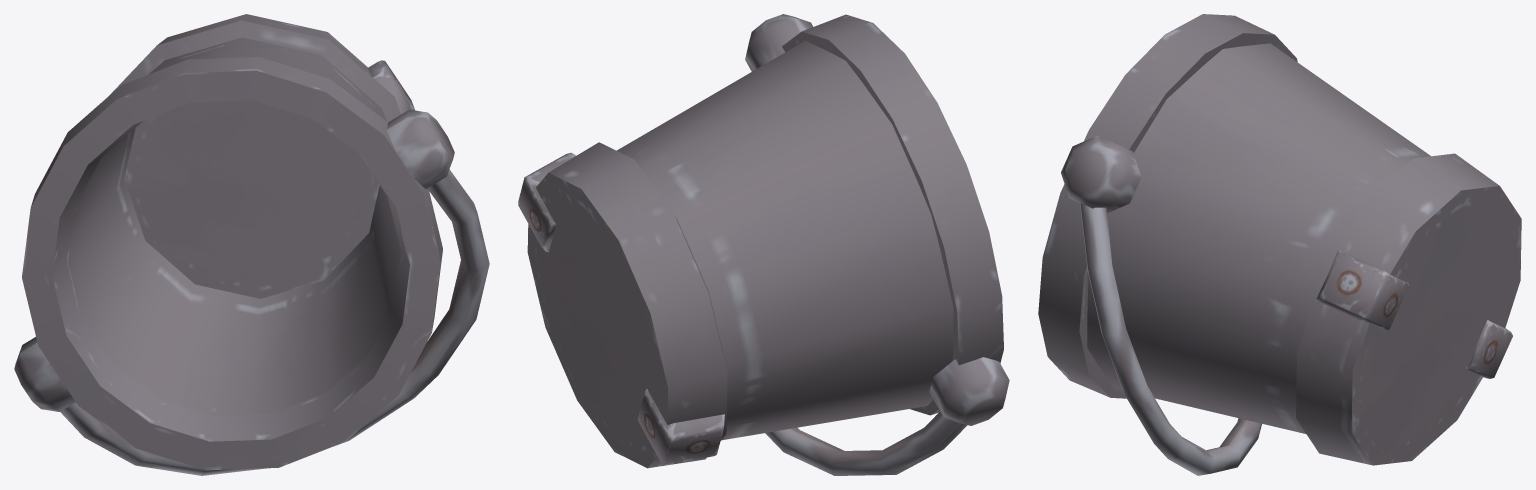
File: bucket_inhand.glb
The picture shows the model from 3 angles, left to right: view 1: azimuth 30°, elevation 25°; view 2: azimuth 150°, elevation 25°; view 3: azimuth 270°, elevation 25°; orthographic projection. The views are drawn at different scales.
Visible parts, largest first — view 1: LIB_bucket; view 2: LIB_bucket; view 3: LIB_bucket.
Part boxes in pixels (box(x1,y1,x2,y2)): LIB_bucket: box(14, 14, 489, 475); LIB_bucket: box(518, 14, 1009, 475); LIB_bucket: box(1038, 14, 1521, 475).
Size of the model in its own units: 0.5554 by 0.515 by 0.5469.
Materials: 1 (1 with a texture image).
